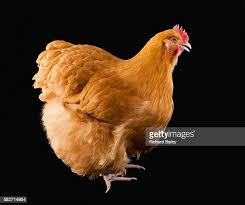buff: (147, 23, 198, 67)
